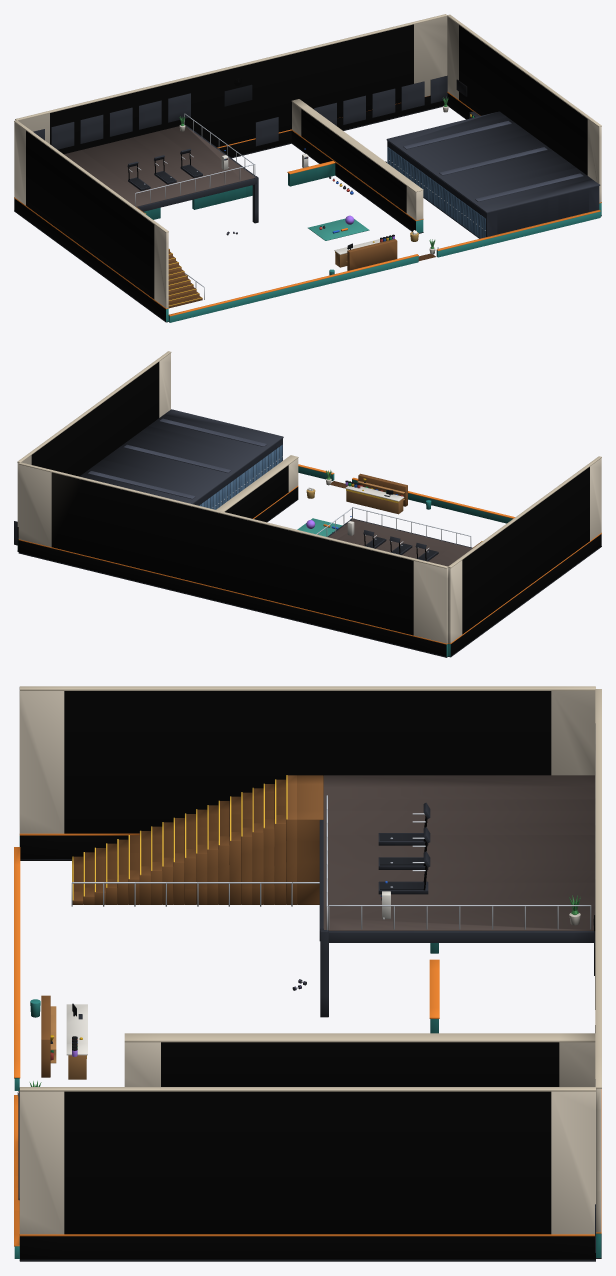
Rendered from room.glb.
3 renders of one model, top to bottom at view 1: azimuth 30°, elevation 25°; view 2: azimuth 150°, elevation 25°; view 3: azimuth 270°, elevation 25°, orthographic. The views are drawn at different scales.
Visible parts, largest first — view 1: room, up; view 2: room, up; view 3: room, up.
Boxes of the visible parts, box(x1,y1,x2,y2) form: room: box(14, 14, 601, 322); up: box(33, 93, 258, 223); room: box(14, 351, 601, 657); up: box(316, 507, 472, 566); room: box(14, 686, 601, 1261); up: box(319, 723, 595, 1017).
Bounding box in the file's own units: 36.74 × 7.24 × 22.45.
